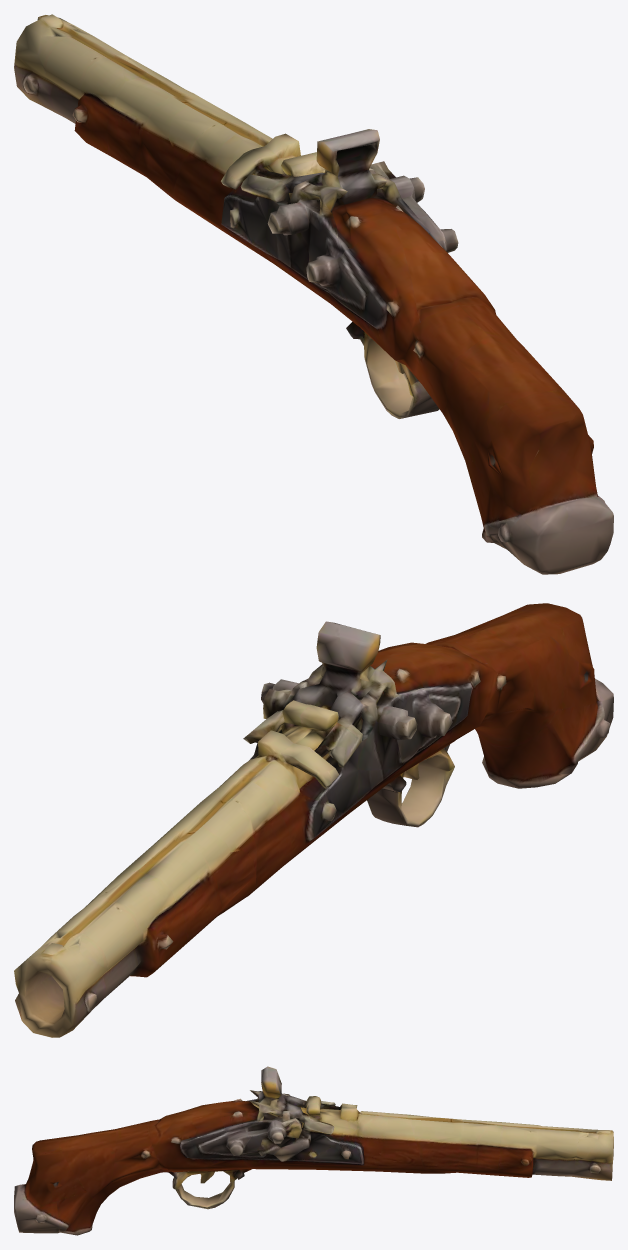
The model's file is pistol.glb.
3 views of the same model, one above another, from view 1: azimuth 30°, elevation 25°; view 2: azimuth 150°, elevation 25°; view 3: azimuth 270°, elevation 25° (orthographic). The views are drawn at different scales.
Parts seen in each view (by area): view 1: tripo_node_9637fe8a-74fa-4bbe-bf6e-6d782d1e1888; view 2: tripo_node_9637fe8a-74fa-4bbe-bf6e-6d782d1e1888; view 3: tripo_node_9637fe8a-74fa-4bbe-bf6e-6d782d1e1888.
Part boxes in pixels (x1,y1,x2,y2): tripo_node_9637fe8a-74fa-4bbe-bf6e-6d782d1e1888: (14, 14, 613, 574); tripo_node_9637fe8a-74fa-4bbe-bf6e-6d782d1e1888: (14, 603, 613, 1037); tripo_node_9637fe8a-74fa-4bbe-bf6e-6d782d1e1888: (14, 1066, 613, 1235).
Size of the model in its own units: 0.1598 by 0.2838 by 0.9991.
Materials: 1 (1 with a texture image).
